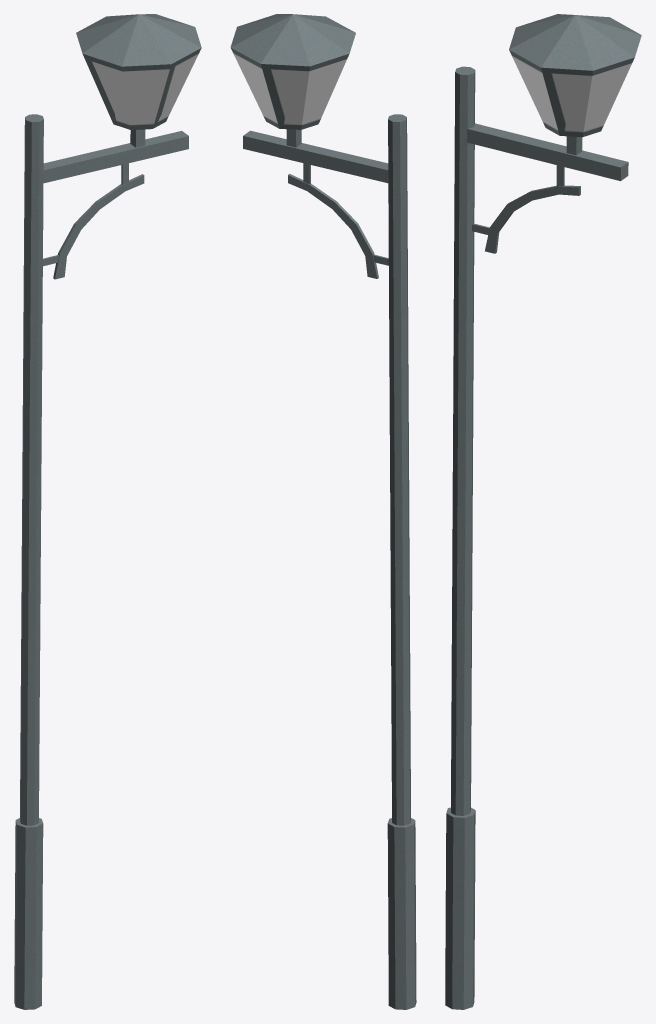
The picture shows the model from 3 angles, left to right: view 1: azimuth 30°, elevation 25°; view 2: azimuth 150°, elevation 25°; view 3: azimuth 330°, elevation 25°; orthographic projection. The views are drawn at different scales.
Parts seen in each view (by area): view 1: glbxzcom-stlbd00061; view 2: glbxzcom-stlbd00061; view 3: glbxzcom-stlbd00061.
Part boxes in pixels (x1=…): glbxzcom-stlbd00061: x1=14, y1=14, x2=201, y2=1009; glbxzcom-stlbd00061: x1=230, y1=14, x2=416, y2=1009; glbxzcom-stlbd00061: x1=445, y1=14, x2=641, y2=1009.
Size of the model in its own units: 0.7194 by 3.7 by 0.4535.
2 materials, 2 textured.
